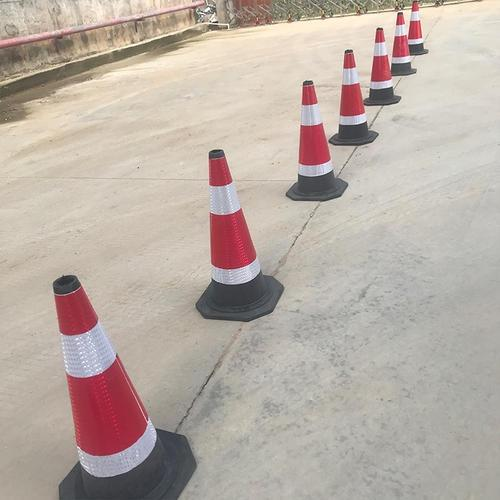cone_barrel: (47, 276, 178, 484), (192, 146, 278, 322), (284, 79, 342, 201), (331, 47, 373, 146), (365, 24, 397, 105), (389, 4, 413, 75)
